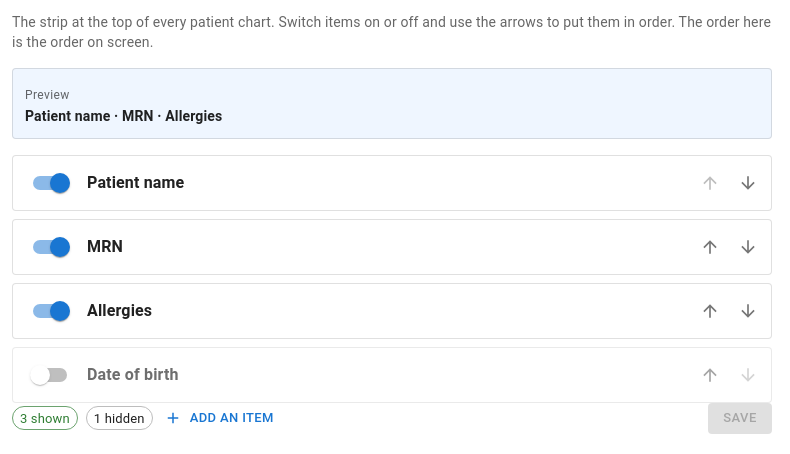
it: arrows reorder, the ends are disabled, and Save sends the order
The width and height of the screenshot is (790, 454).
Expected: the element with test id "header-row-name" is shown, [12,155,772,211]
Expected: the button named "Move Patient name up" is disabled, [695,168,725,198]
Click the button named "Move Allergies up".
click(710, 311)  # box [695,296,725,326]
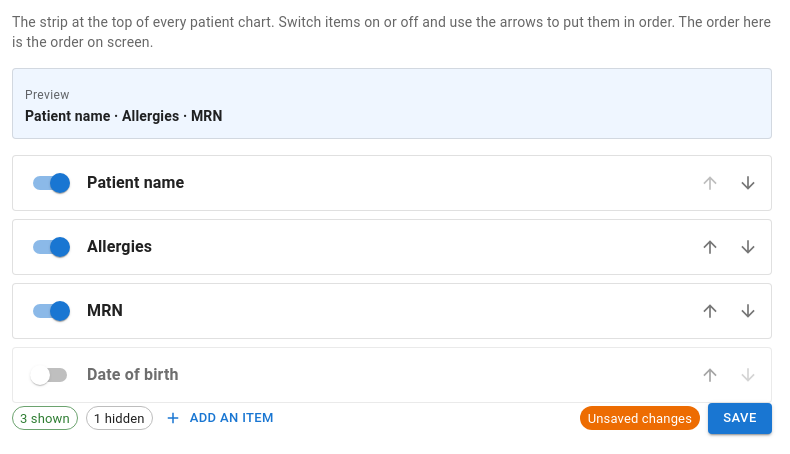
Click the switch named "Show Date of birth".
click(50, 375)  # box [21,356,79,394]
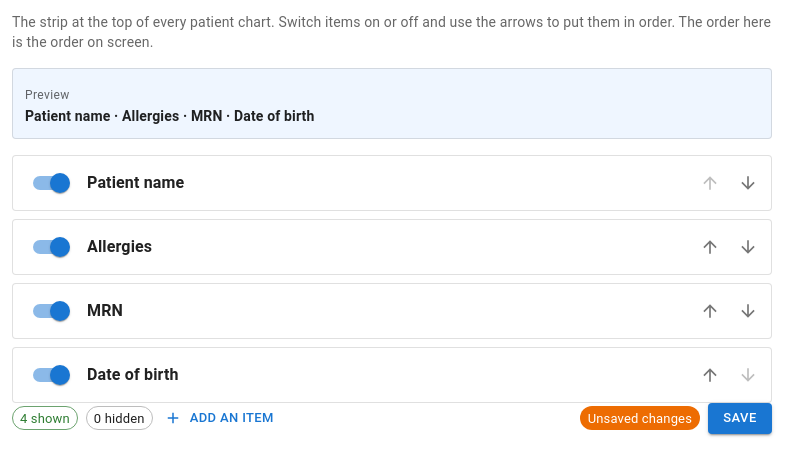
Click the button "Save".
click(740, 418)  # box [708,403,772,434]
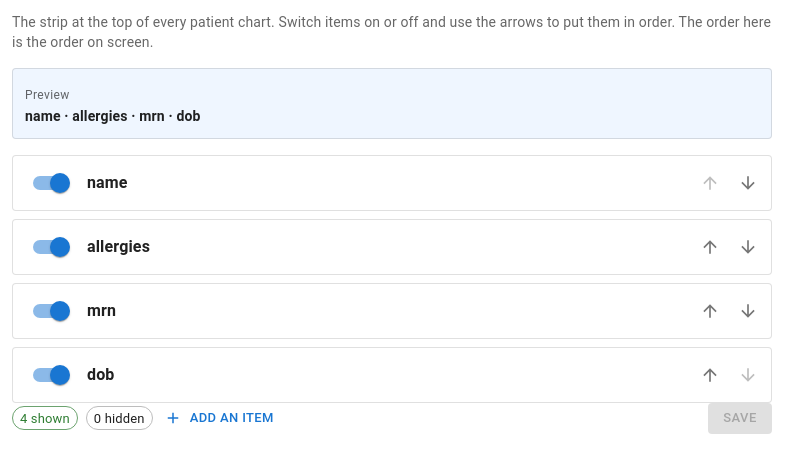
Result: the button "Save" is disabled at [708,403,772,434]
